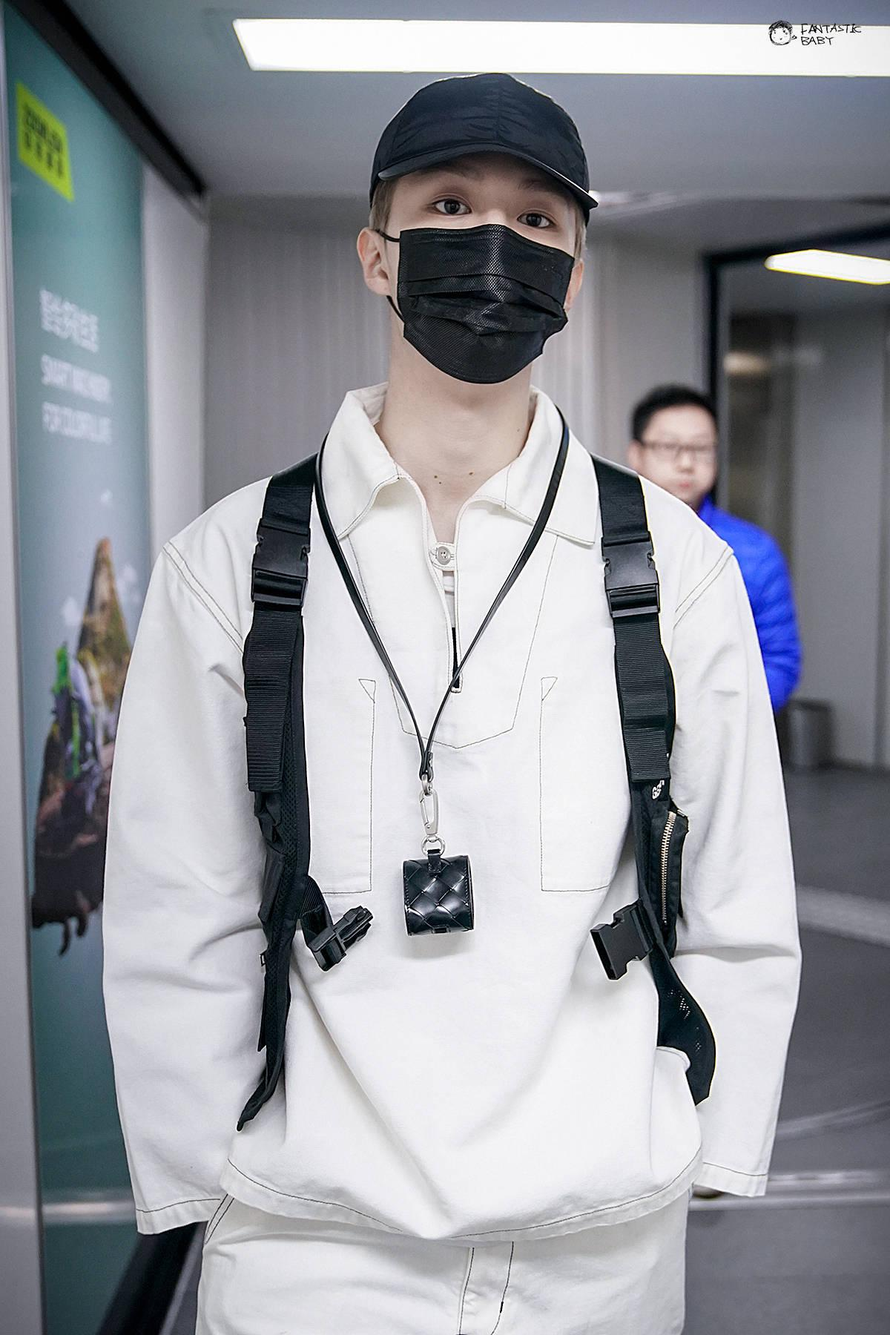NONE: (642, 423, 716, 504)
OK: (395, 174, 572, 383)
